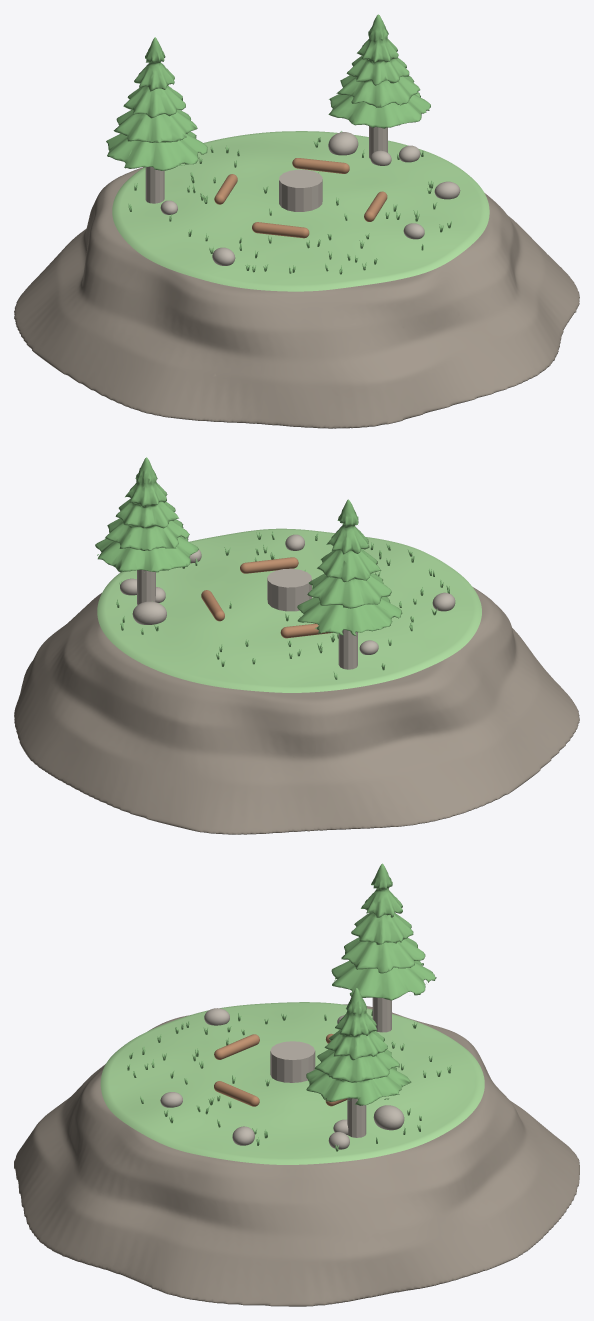
Rendered from island.glb.
3 views of the same model, one above another, from view 1: azimuth 30°, elevation 25°; view 2: azimuth 150°, elevation 25°; view 3: azimuth 270°, elevation 25° (orthographic).
Parts seen in each view (by area): view 1: Cliffs, Ground, Trees, WalkBlockers, Rocks, Benches, Grass; view 2: Cliffs, Ground, Trees, WalkBlockers, Rocks, Benches, Grass; view 3: Cliffs, Ground, Trees, WalkBlockers, Rocks, Benches, Grass.
Part boxes in pixels (x1,y1,x2,y2): Cliffs: (14, 167, 579, 428); Ground: (112, 131, 489, 291); Trees: (106, 14, 430, 170); WalkBlockers: (145, 126, 387, 211); Rocks: (160, 132, 460, 265); Benches: (214, 158, 387, 238); Grass: (128, 131, 451, 274); Cliffs: (14, 587, 579, 834); Ground: (97, 528, 481, 692); Trees: (95, 457, 402, 636); WalkBlockers: (137, 568, 357, 669); Rocks: (120, 534, 455, 654); Benches: (201, 557, 332, 638); Grass: (116, 531, 449, 679); Cliffs: (14, 1004, 579, 1306); Ground: (100, 1002, 484, 1164); Trees: (306, 863, 436, 1105); WalkBlockers: (270, 997, 391, 1137); Rocks: (160, 1008, 404, 1149); Benches: (214, 1033, 347, 1106); Grass: (127, 1009, 451, 1151).
Bounding box in the file's own units: 26.66 × 14.14 × 26.52.
